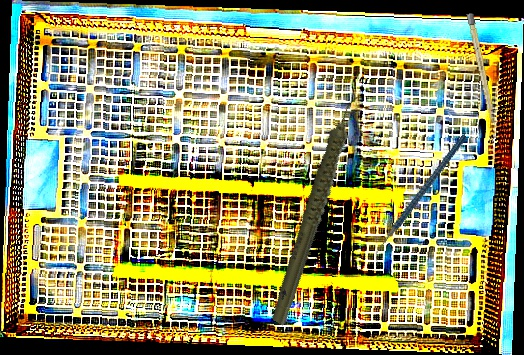Chopper: (342, 134, 499, 267)
Handpiece: (227, 92, 410, 327)
Scalpel Handle: (466, 12, 497, 125)
